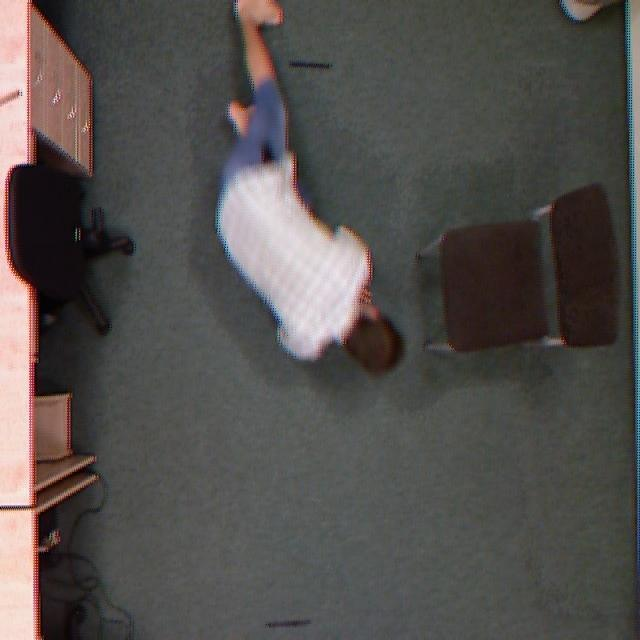fall detected: (202, 0, 414, 381)
